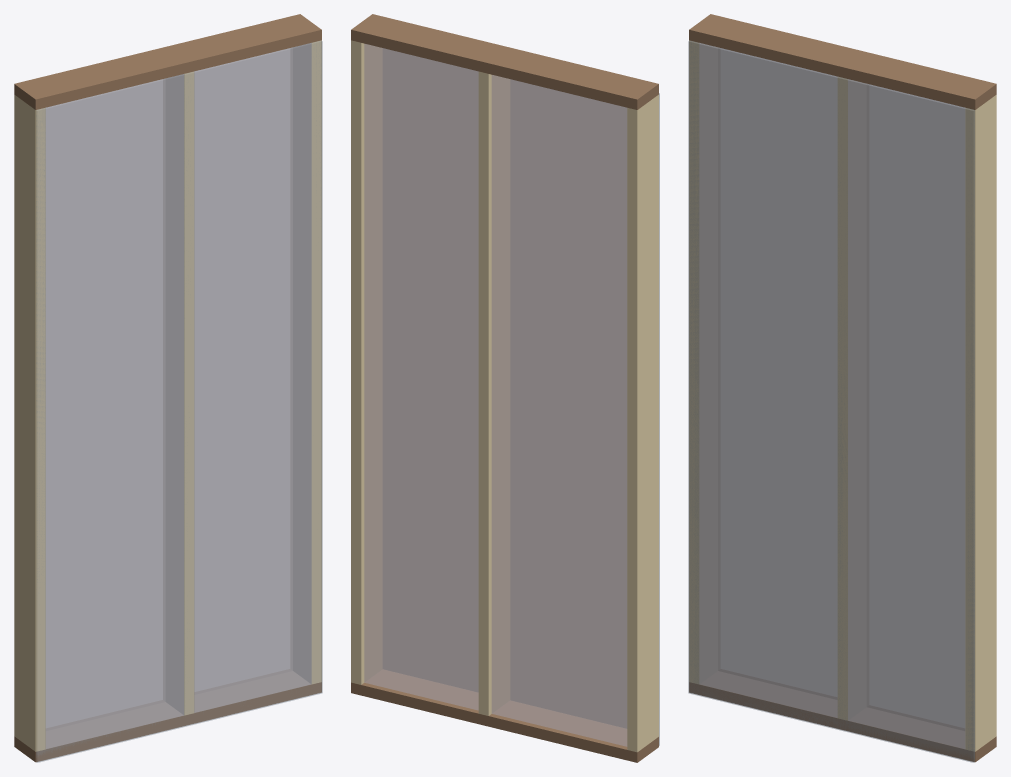
3 renders of one model, left to right at view 1: azimuth 30°, elevation 25°; view 2: azimuth 150°, elevation 25°; view 3: azimuth 330°, elevation 25°, orthographic.
Visible parts, largest first — view 1: EX13 FF; view 2: EX13 FF; view 3: EX13 FF.
Part boxes in pixels (left/top/right/bottom): EX13 FF: left=14, top=14, right=322, bottom=762; EX13 FF: left=351, top=14, right=659, bottom=762; EX13 FF: left=688, top=14, right=996, bottom=762.
Bounding box in the file's own units: 1.08 × 2.38 × 0.149.
